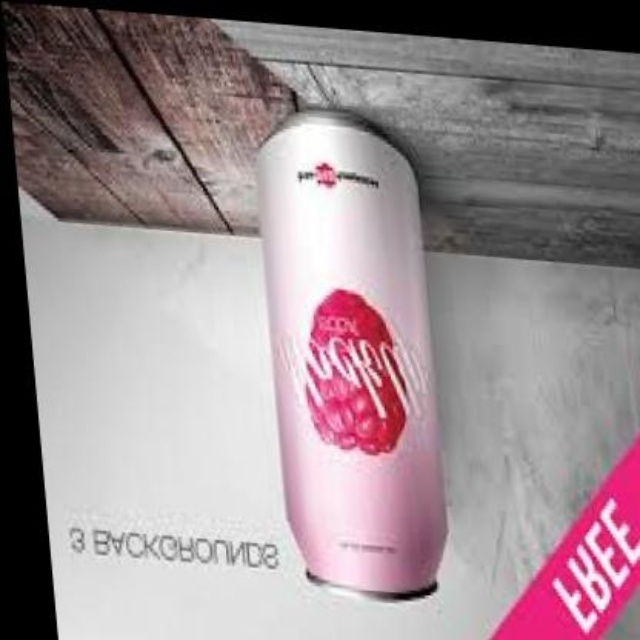trash: (260, 112, 445, 595)
